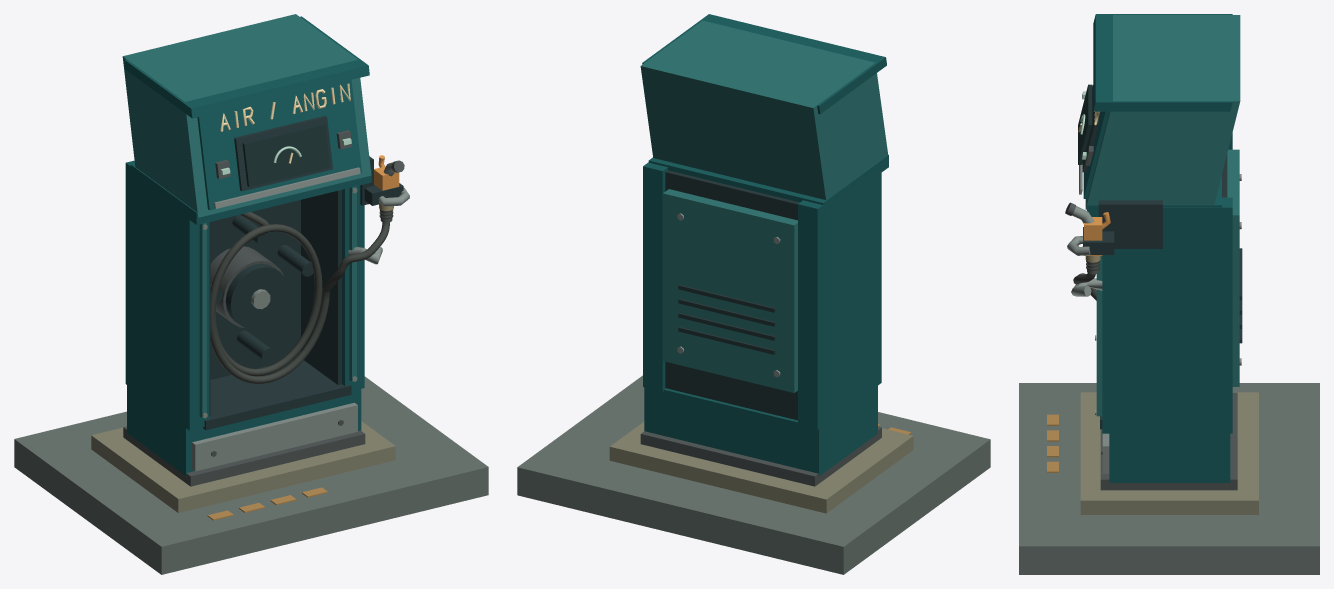
The model's file is forecourt-tyre-air-pedestal.glb.
3 renders of one model, left to right at view 1: azimuth 30°, elevation 25°; view 2: azimuth 150°, elevation 25°; view 3: azimuth 270°, elevation 25°, orthographic. The views are drawn at different scales.
Visible parts, largest first — view 1: Cut utility forecourt slab, Cast slanted head around instruments, Left structural cheek, Raised pad under equipment feet, Thin dark replaceable instrument panel, Recess deep back wall, Recess side return right, AIR_CONTINUOUS_COIL_AND_LEAD, Open reel lower floor, Kickplate protects lower panel, Lower cabinet body, Deflected visor with shallow lip (+13 smaller); view 2: Cut utility forecourt slab, Cast slanted head around instruments, Rear hinged access lid, Left structural cheek, Lower cabinet body, Raised pad under equipment feet, Recess deep back wall, Right structural cheek, Powder-coated pedestal base, Deflected visor with shallow lip, Open reel upper lip, CABINET_REAR_COOLING_SLOTS; view 3: Cut utility forecourt slab, Right structural cheek, Cast slanted head around instruments, Raised pad under equipment feet, Lower cabinet body, Deflected visor with shallow lip, Side nozzle stay mounting flange, Rear hinged access lid, Powder-coated pedestal base, Slim lighter upright wear strip.001, Smoked acrylic instrument face, Thin dark replaceable instrument panel (+4 smaller).
Boxes of the visible parts, x1,y1,x2,y2 form: Cut utility forecourt slab: [14, 376, 488, 574]; Cast slanted head around instruments: [122, 14, 371, 217]; Left structural cheek: [125, 160, 209, 430]; Raised pad under equipment feet: [91, 421, 395, 512]; Thin dark replaceable instrument panel: [197, 80, 361, 210]; Recess deep back wall: [210, 200, 300, 379]; Recess side return right: [301, 190, 341, 384]; AIR_CONTINUOUS_COIL_AND_LEAD: [210, 212, 389, 383]; Open reel lower floor: [202, 360, 351, 430]; Kickplate protects lower panel: [192, 402, 357, 471]; Lower cabinet body: [127, 384, 361, 475]; Deflected visor with shallow lip: [124, 16, 369, 118]; Cut utility forecourt slab: [517, 375, 990, 574]; Cast slanted head around instruments: [640, 20, 887, 199]; Rear hinged access lid: [663, 189, 797, 392]; Left structural cheek: [798, 173, 881, 429]; Lower cabinet body: [644, 384, 877, 476]; Raised pad under equipment feet: [609, 422, 913, 513]; Recess deep back wall: [665, 170, 799, 420]; Right structural cheek: [643, 162, 667, 391]; Powder-coated pedestal base: [640, 426, 881, 486]; Deflected visor with shallow lip: [642, 14, 886, 114]; Open reel upper lip: [648, 154, 888, 215]; CABINET_REAR_COOLING_SLOTS: [678, 284, 775, 354]; Cut utility forecourt slab: [1019, 383, 1319, 574]; Right structural cheek: [1102, 197, 1232, 433]; Cast slanted head around instruments: [1085, 15, 1240, 209]; Raised pad under equipment feet: [1080, 392, 1258, 514]; Lower cabinet body: [1109, 432, 1230, 482]; Deflected visor with shallow lip: [1093, 14, 1232, 111]; Side nozzle stay mounting flange: [1098, 200, 1162, 248]; Rear hinged access lid: [1227, 149, 1239, 386]; Powder-coated pedestal base: [1100, 392, 1237, 490]; Slim lighter upright wear strip.001: [1096, 256, 1102, 416]; Smoked acrylic instrument face: [1078, 84, 1092, 164]; Thin dark replaceable instrument panel: [1083, 111, 1108, 198].
Size of the model in its own units: 1.17 by 1.44 by 0.91.
